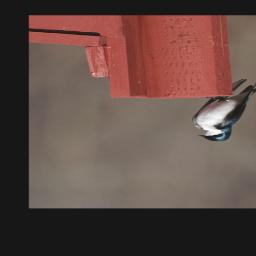Swallow: (191, 80, 256, 142)
